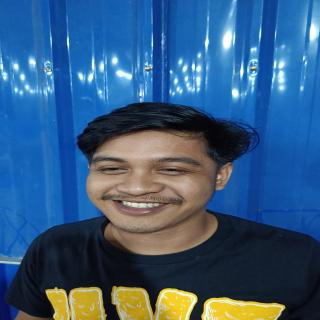Senang: (78, 126, 230, 236)
